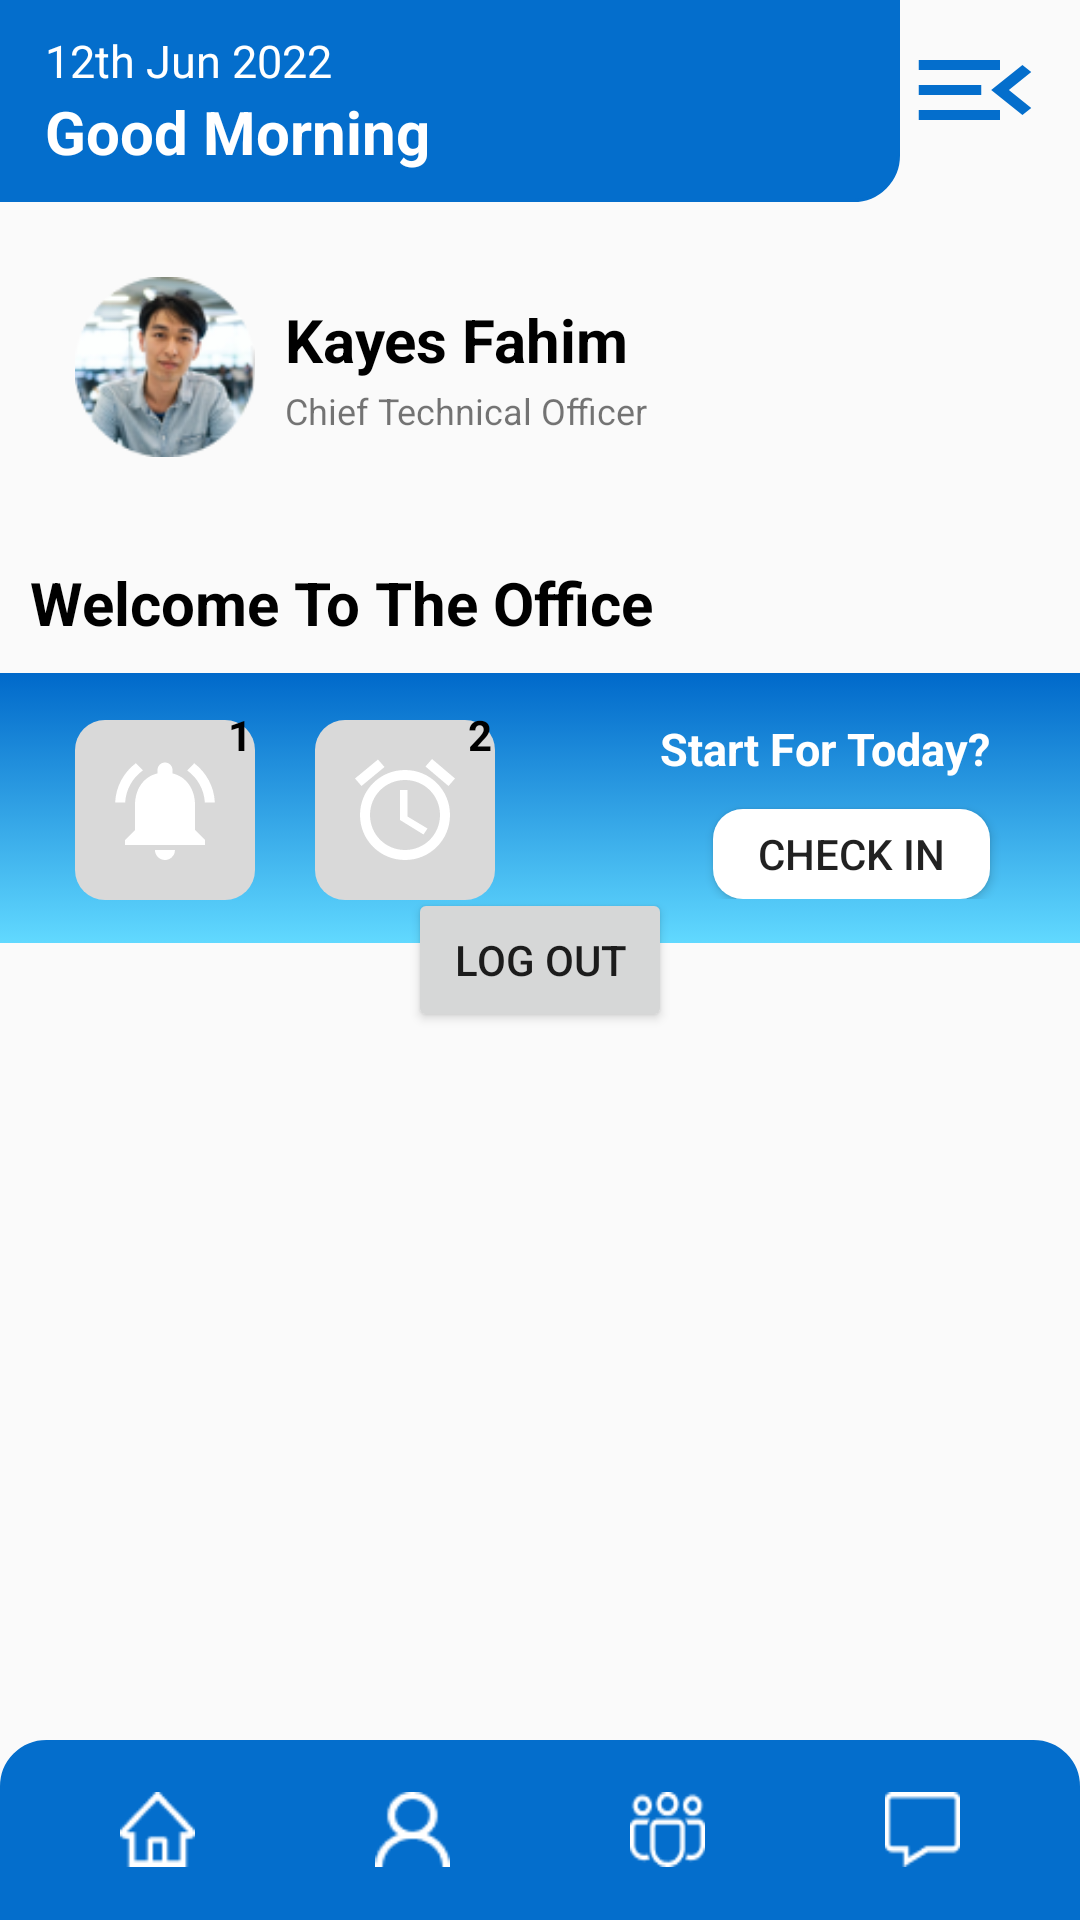

Icons on this 1080×1920 Android screen, each with the point to tap as point (x, y):
account: point (412, 1829)
alarms: point (405, 810)
chat: point (922, 1829)
home: point (157, 1829)
menu: point (974, 90)
notifications: point (165, 810)
